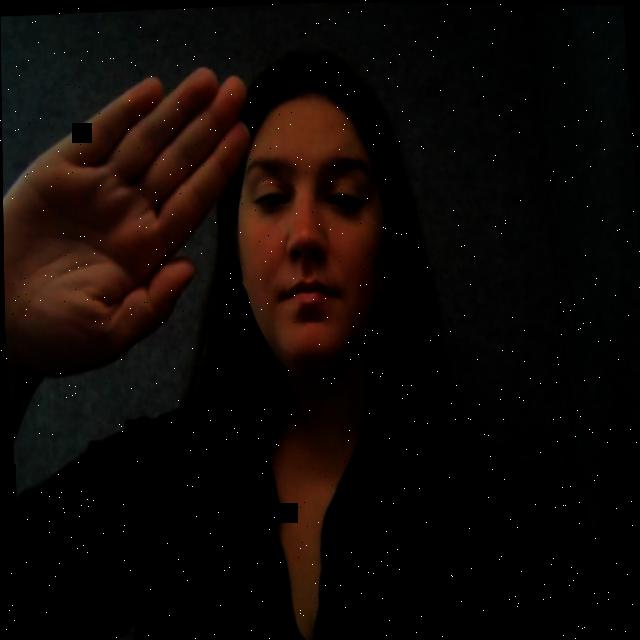Paper: (0, 26, 269, 416)
